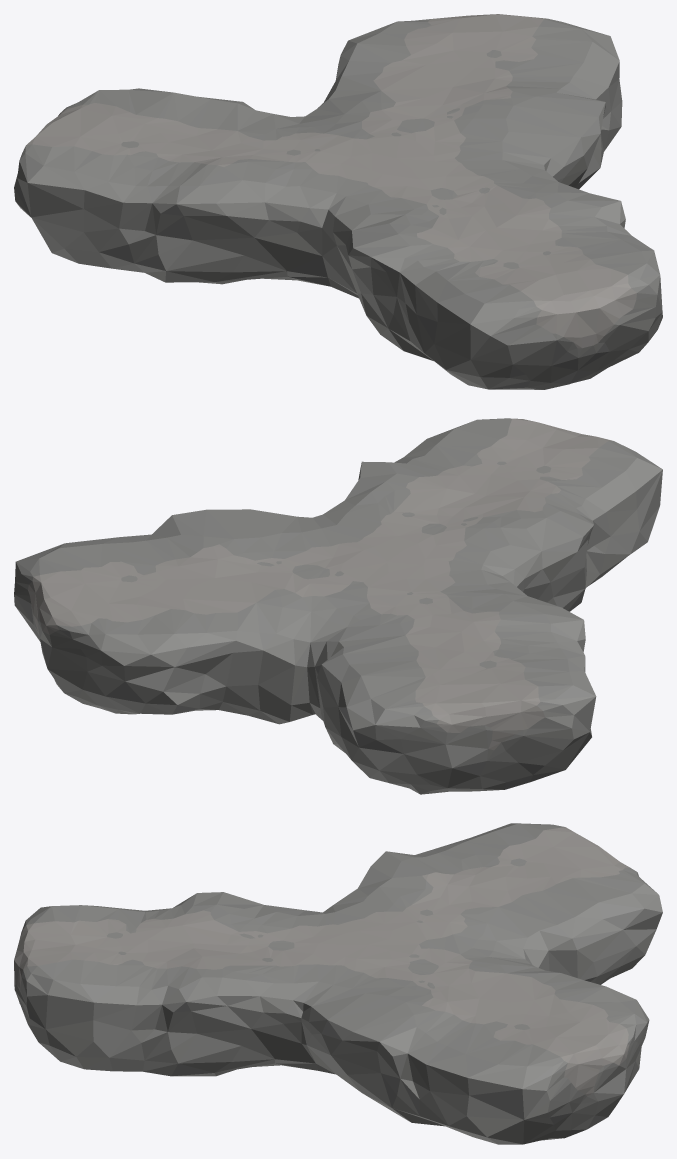
Rendered from Cavern_Floor_Narrow_Intersection-02.fbx.
3 renders of one model, top to bottom at view 1: azimuth 30°, elevation 25°; view 2: azimuth 150°, elevation 25°; view 3: azimuth 270°, elevation 25°, orthographic. The views are drawn at different scales.
Parts seen in each view (by area): view 1: Cavern_Floor_Narrow_Intersection-02; view 2: Cavern_Floor_Narrow_Intersection-02; view 3: Cavern_Floor_Narrow_Intersection-02.
Boxes of the visible parts, x1=… form: Cavern_Floor_Narrow_Intersection-02: x1=14, y1=14, x2=662, y2=389; Cavern_Floor_Narrow_Intersection-02: x1=14, y1=418, x2=662, y2=794; Cavern_Floor_Narrow_Intersection-02: x1=14, y1=823, x2=662, y2=1144.
Bounding box in the file's own units: 2466 × 503 × 2555.
1 material, 1 textured.
